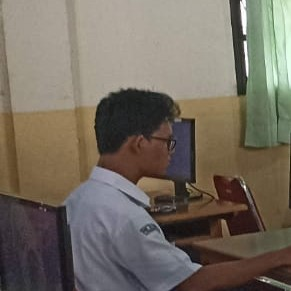monitor: (0, 191, 75, 289), (153, 118, 196, 185), (254, 265, 291, 290)
